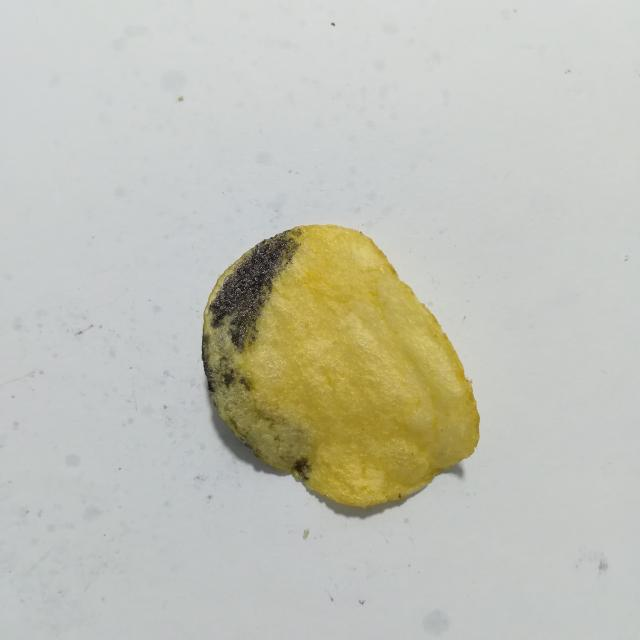chip: (203, 225, 480, 508)
damaged: (209, 227, 301, 351), (201, 334, 216, 392)
semi-damaged: (203, 302, 310, 484)
